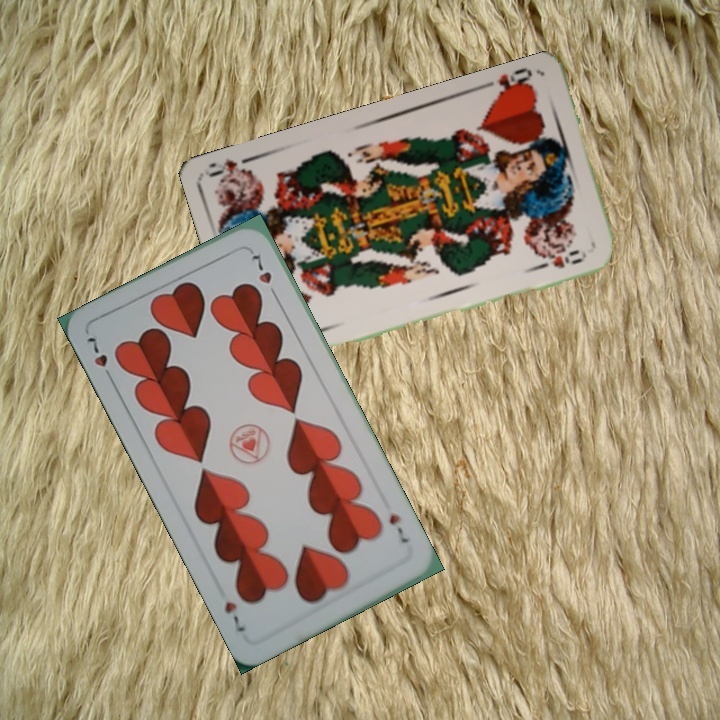H7: (82, 330, 116, 385), (385, 510, 411, 546)
HO: (487, 63, 536, 102)
